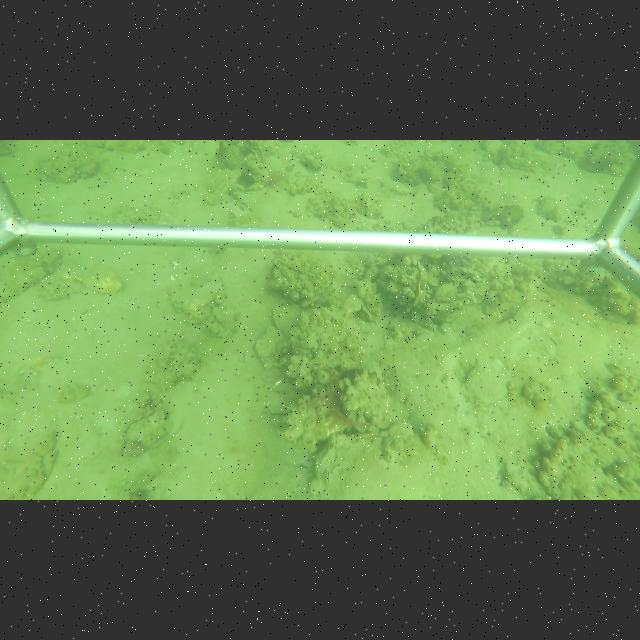Oyster-Closed: (218, 140, 264, 186), (169, 281, 225, 317), (255, 325, 291, 367), (272, 302, 306, 338), (414, 260, 430, 312), (323, 469, 333, 493)
Oyster-Open: (119, 408, 169, 456), (264, 402, 290, 423), (360, 301, 376, 321)
